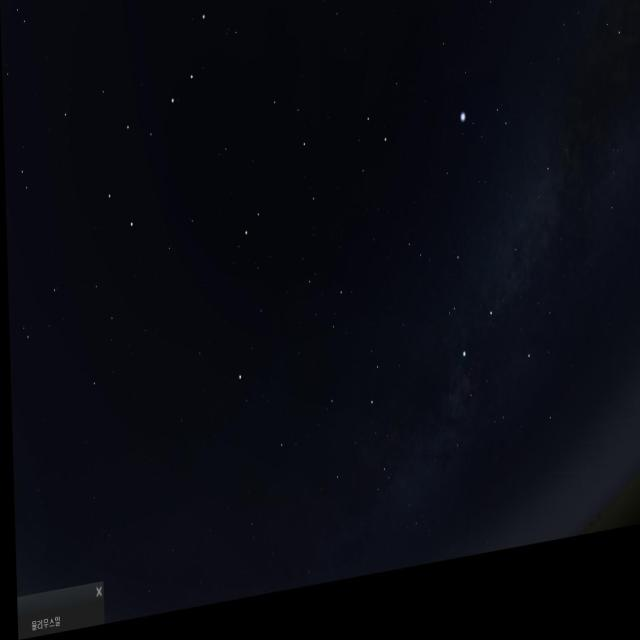cygnus: (453, 195, 565, 398)
lyra: (456, 104, 518, 190)
ursa_major: (94, 9, 216, 255)
